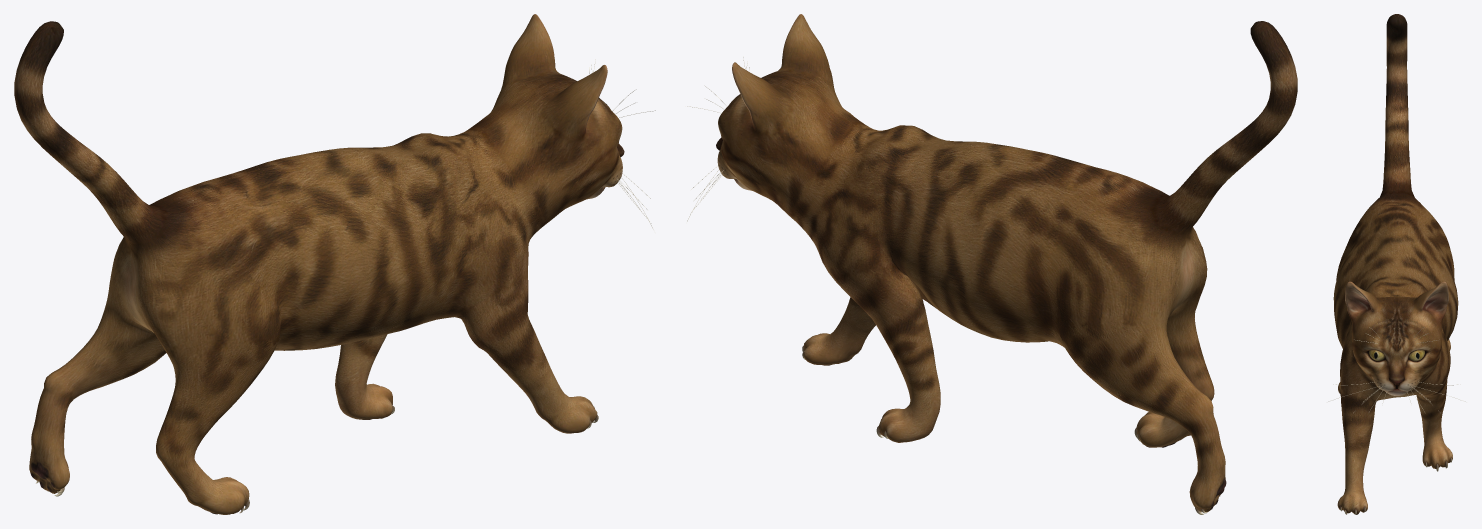
3 views of the same model, side by side, from view 1: azimuth 30°, elevation 25°; view 2: azimuth 150°, elevation 25°; view 3: azimuth 270°, elevation 25° (orthographic). The views are drawn at different scales.
Parts seen in each view (by area): view 1: node_id918; view 2: node_id918; view 3: node_id918.
Boxes of the visible parts, x1,y1,x2,y2 form: node_id918: [14, 14, 655, 514]; node_id918: [685, 14, 1297, 514]; node_id918: [1328, 14, 1465, 514].
Size of the model in its own units: 0.00654 by 0.00512 by 0.00195.
Materials: 1 (1 with a texture image).
